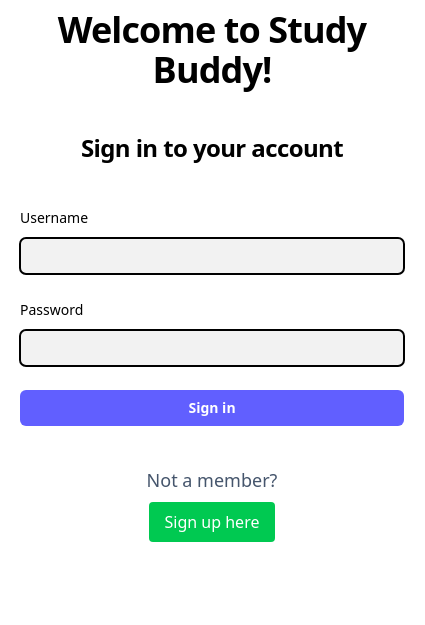
Home Component › Form Validation › shows error when username is too short
This screenshot has width=425, height=625.
Step 1. Type "ab" into the field labelled "Username" → (212,256), box [20, 238, 404, 274]
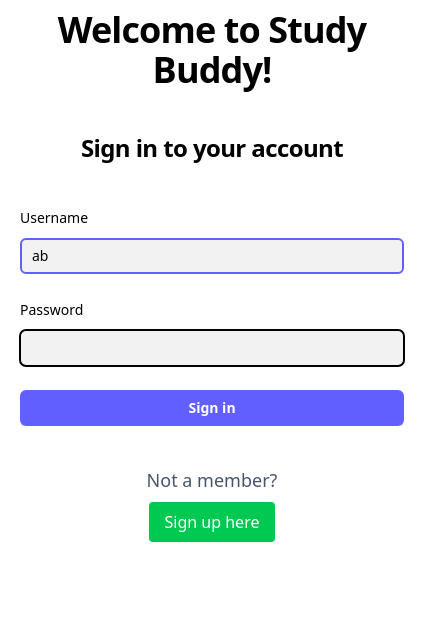
Step 2. Type "password123" into the password field labelled "Password" → (212,348), box [20, 330, 404, 366]
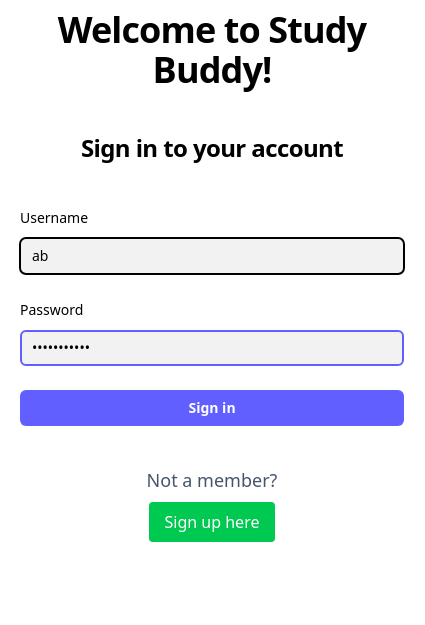
Step 3. Click the button "Sign in" → (212,408), box [20, 390, 404, 426]
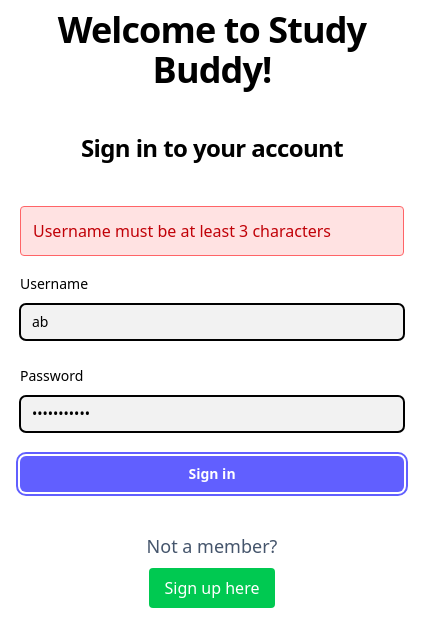
Expected: the text "Username must be at least 3 characters" is shown, [20, 206, 404, 256]
